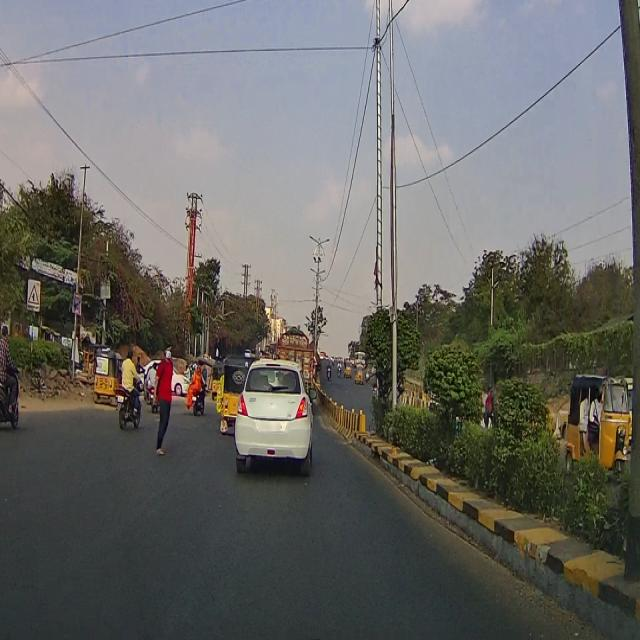side-road-left: (29, 274, 41, 311)
